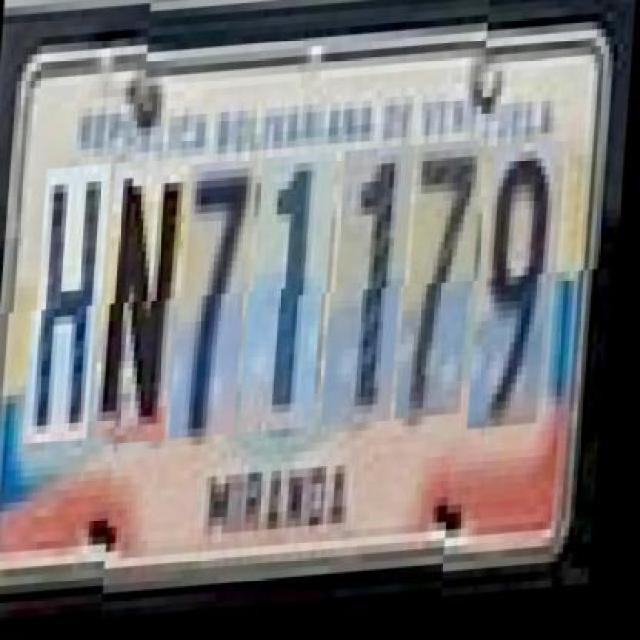1: (250, 158, 339, 438), (333, 152, 418, 432)
7: (181, 164, 261, 444), (406, 148, 486, 428)
9: (480, 142, 565, 430)
h: (34, 174, 114, 454)
n: (103, 168, 192, 448)
